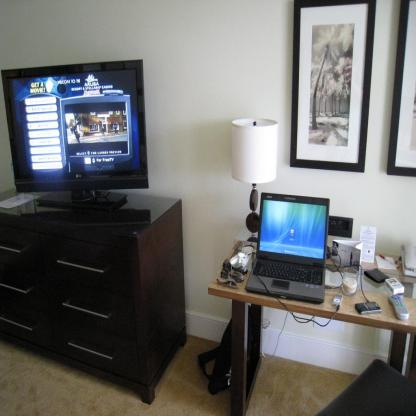board: (245, 198, 338, 310)
